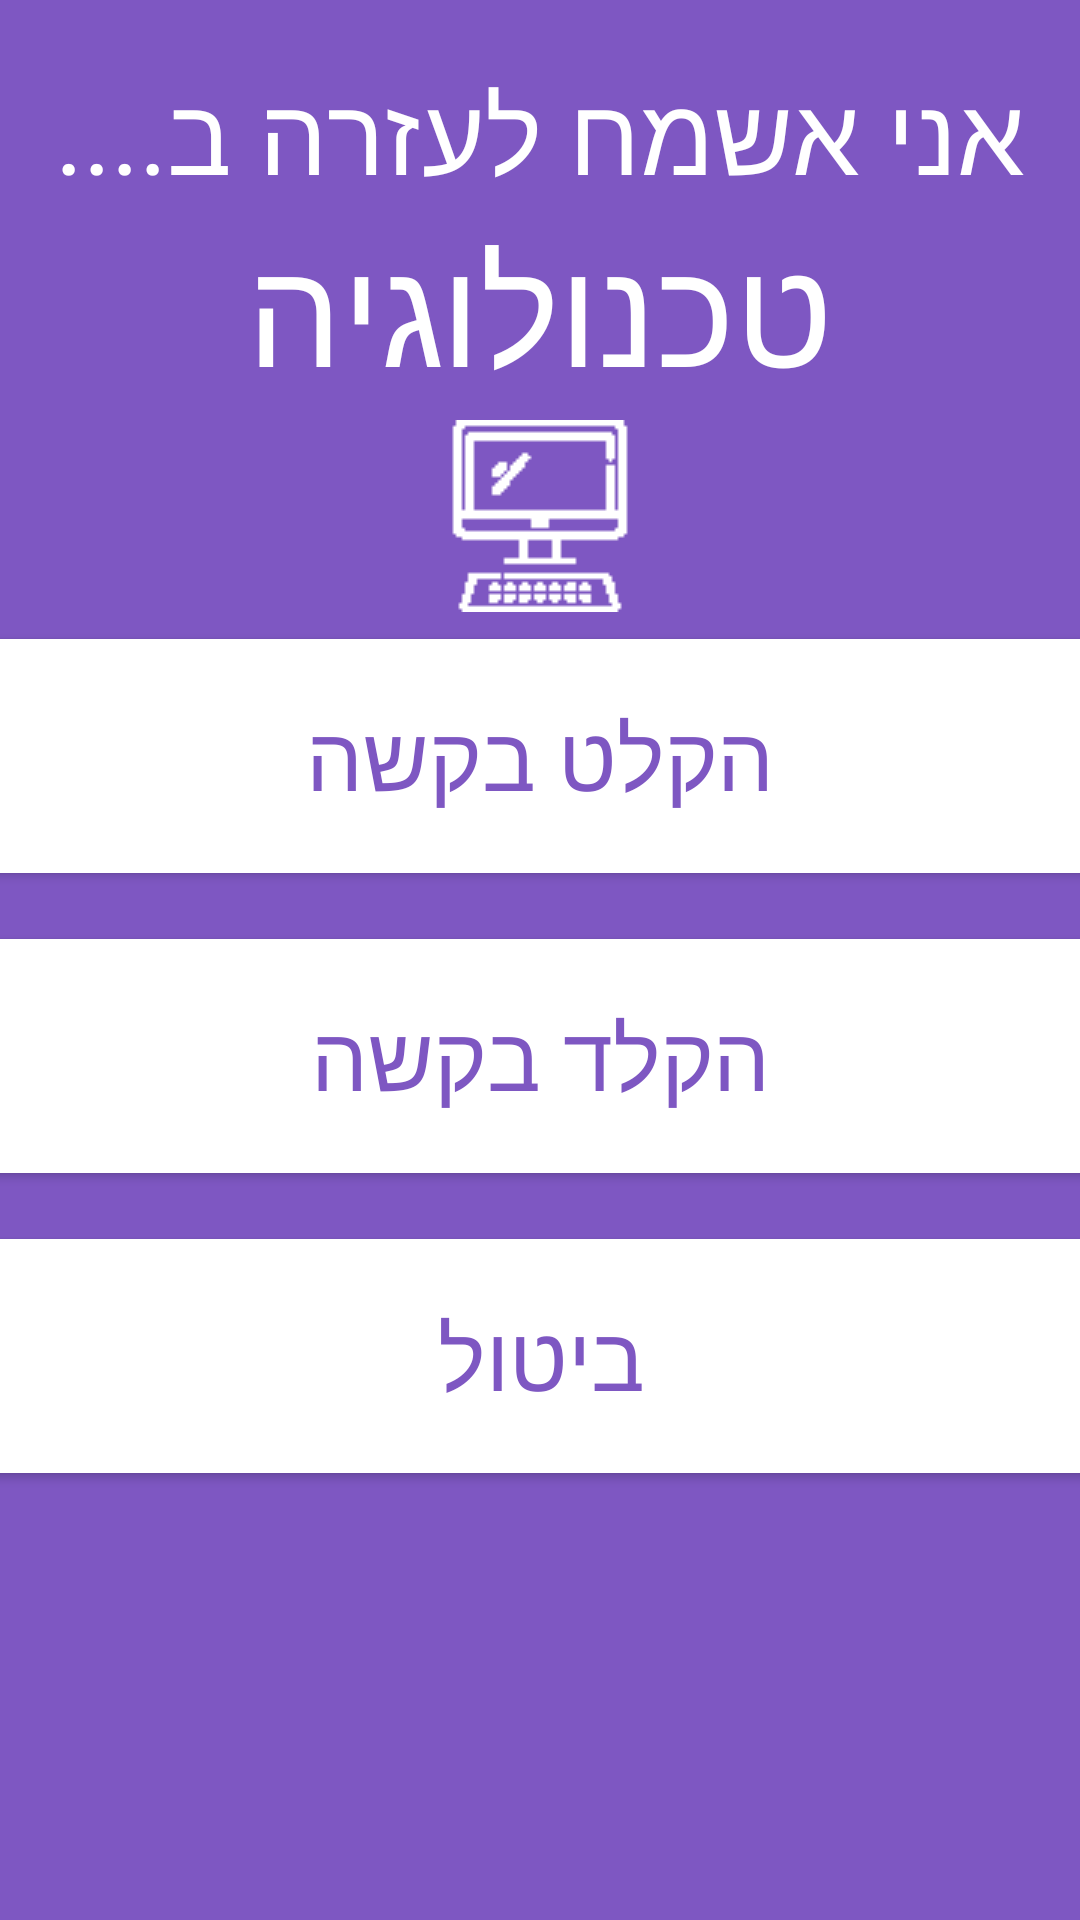

Locate icon controls on the screen. Image size 1080 x 1920, boxes as box=[x1, y1, x2, y2].
computerwhite: box=[452, 420, 628, 612]
